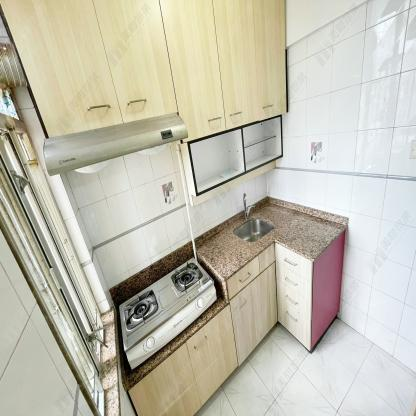Cupboard: (2, 1, 288, 141), (126, 240, 312, 415)
Exhaust Hood: (41, 111, 188, 174)
Sink: (235, 218, 276, 243)
Stove: (121, 256, 218, 371)
